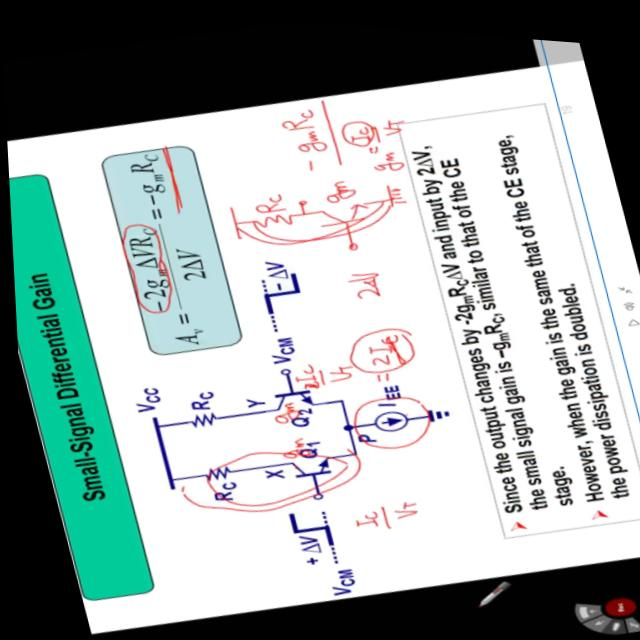panseo: (184, 70, 448, 331), (270, 297, 439, 399), (331, 475, 438, 541)
